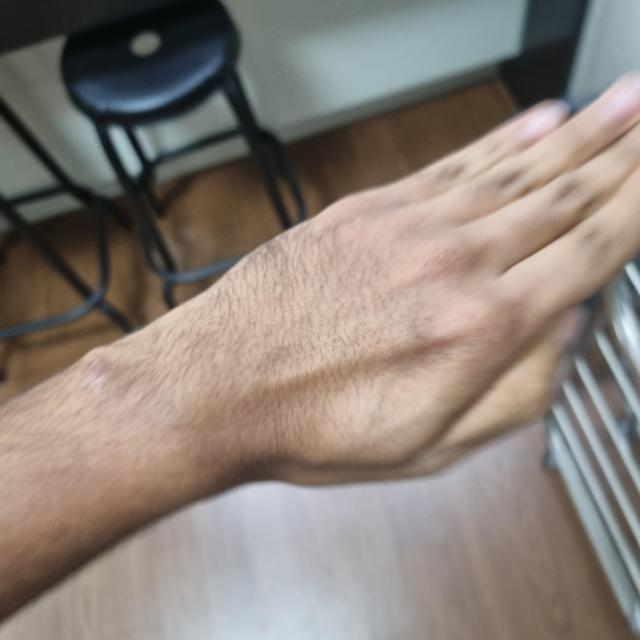Paper: (175, 176, 537, 470)
